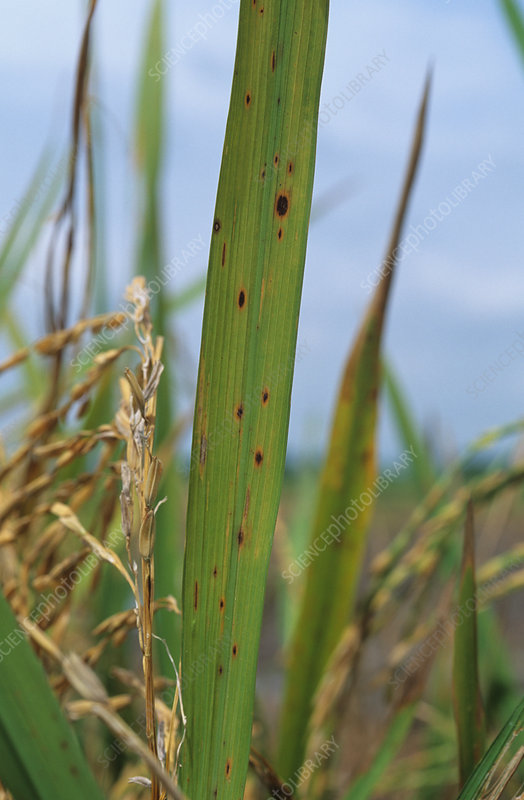Bercak Coklat: (232, 284, 252, 320), (272, 188, 293, 221), (256, 385, 277, 414), (249, 444, 269, 473), (229, 401, 250, 423), (220, 754, 235, 784), (238, 88, 256, 111), (281, 156, 298, 180), (227, 637, 242, 664), (269, 225, 290, 243), (216, 591, 230, 615), (208, 215, 225, 234)
